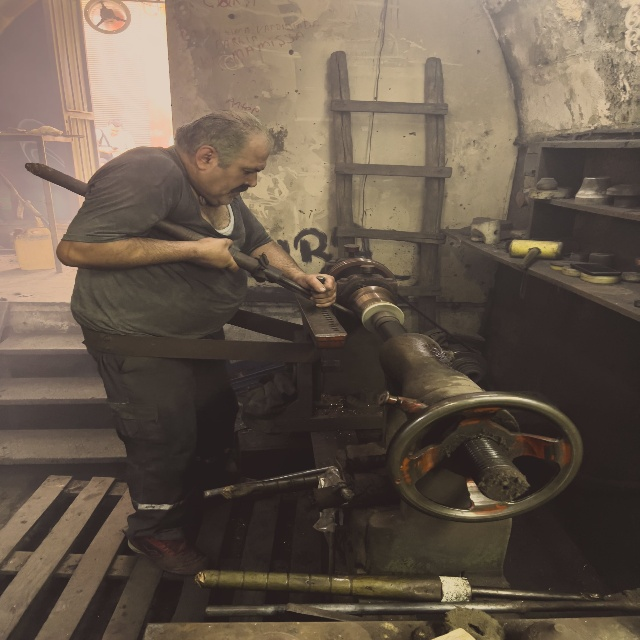Sin_guantes: (195, 230, 239, 274), (304, 269, 338, 308)
